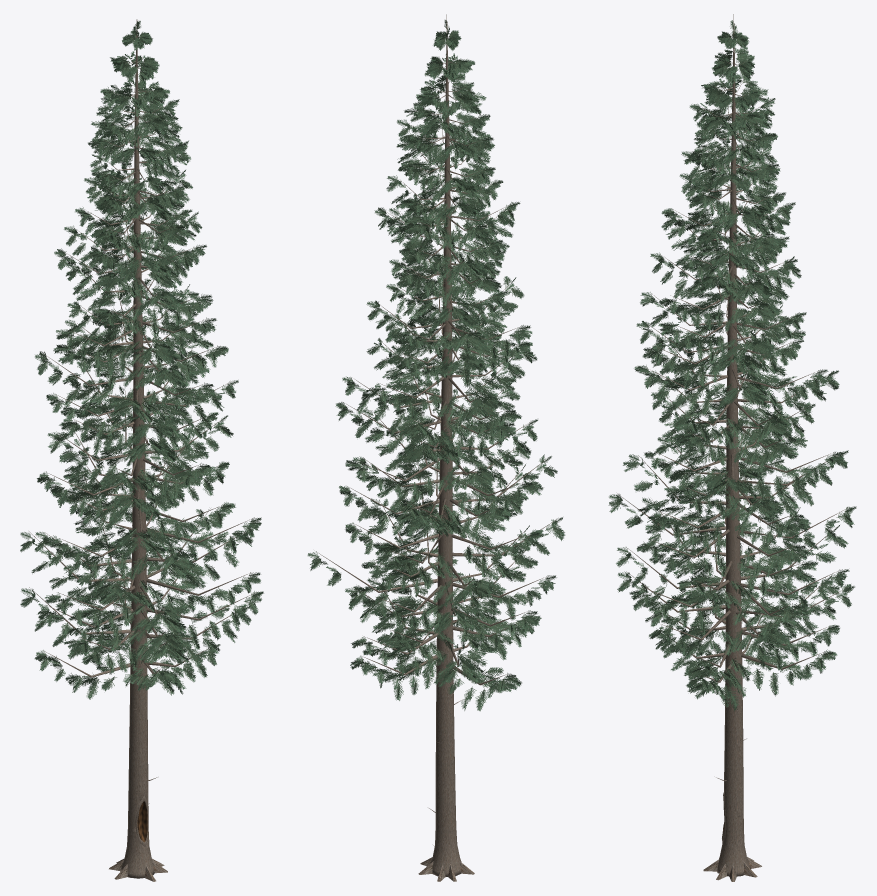
File: SS_Defect_Cavity_PostMature_02_LOD1.fbx
3 renders of one model, left to right at view 1: azimuth 30°, elevation 25°; view 2: azimuth 150°, elevation 25°; view 3: azimuth 270°, elevation 25°, orthographic.
Visible parts, largest first — view 1: SS_Defect_Cavity_PostMature_02_LOD1_Foliage, SS_Defect_Cavity_PostMature_02_LOD1_Trunk, SS_Defect_Cavity_PostMature_02_LOD1_Branches; view 2: SS_Defect_Cavity_PostMature_02_LOD1_Foliage, SS_Defect_Cavity_PostMature_02_LOD1_Trunk, SS_Defect_Cavity_PostMature_02_LOD1_Branches; view 3: SS_Defect_Cavity_PostMature_02_LOD1_Foliage, SS_Defect_Cavity_PostMature_02_LOD1_Trunk, SS_Defect_Cavity_PostMature_02_LOD1_Branches.
Part boxes in pixels (x1,y1,x2,y2): SS_Defect_Cavity_PostMature_02_LOD1_Foliage: [20, 21, 263, 699]; SS_Defect_Cavity_PostMature_02_LOD1_Trunk: [109, 19, 167, 881]; SS_Defect_Cavity_PostMature_02_LOD1_Branches: [29, 36, 256, 803]; SS_Defect_Cavity_PostMature_02_LOD1_Foliage: [307, 20, 565, 711]; SS_Defect_Cavity_PostMature_02_LOD1_Trunk: [418, 14, 474, 881]; SS_Defect_Cavity_PostMature_02_LOD1_Branches: [317, 36, 556, 845]; SS_Defect_Cavity_PostMature_02_LOD1_Foliage: [608, 20, 856, 711]; SS_Defect_Cavity_PostMature_02_LOD1_Trunk: [703, 14, 761, 881]; SS_Defect_Cavity_PostMature_02_LOD1_Branches: [617, 35, 847, 850].
Size of the model in its own units: 834 by 3100 by 858.
Materials: 3 (3 with a texture image).
